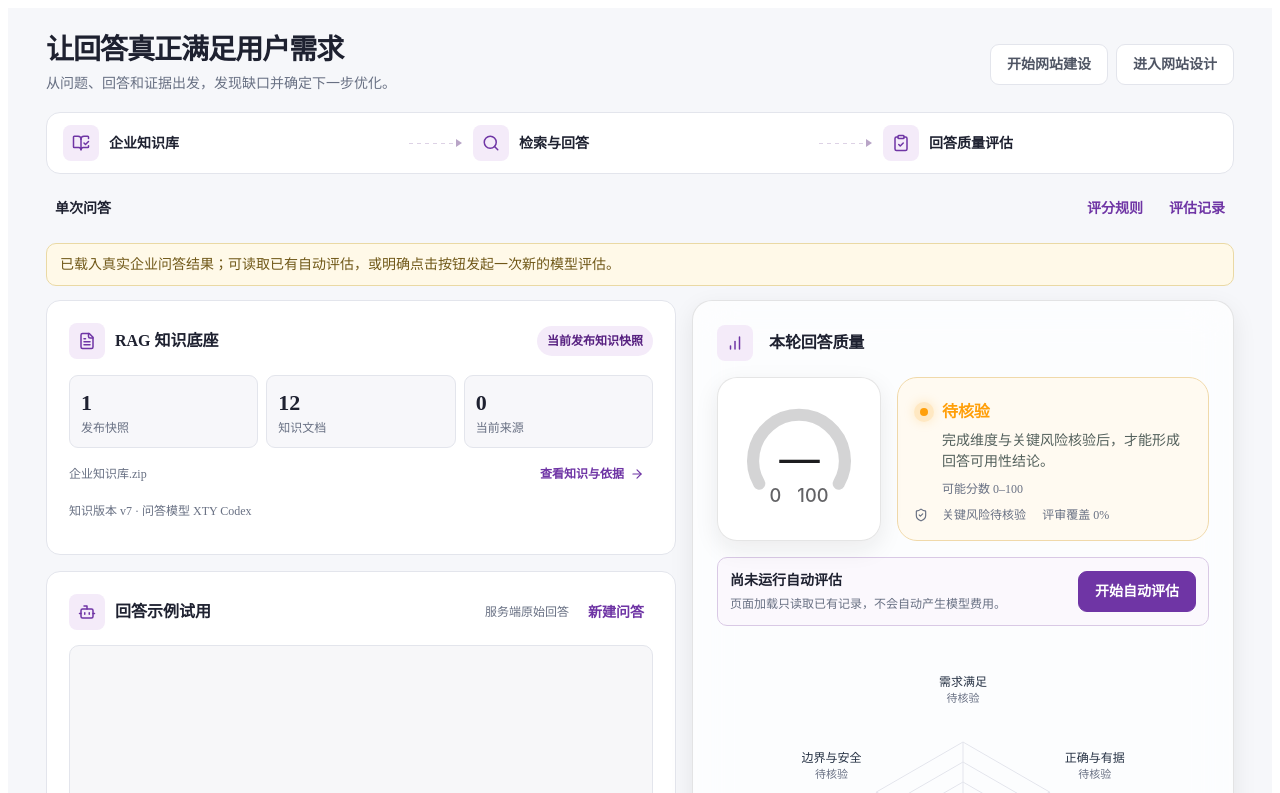
enterprise RAG evidence-based review UI › reuses the same client request id after an unknown POST outcome
Click the button with test id "rag-auto-evaluate" at (1137, 592), box [1078,572,1196,612]
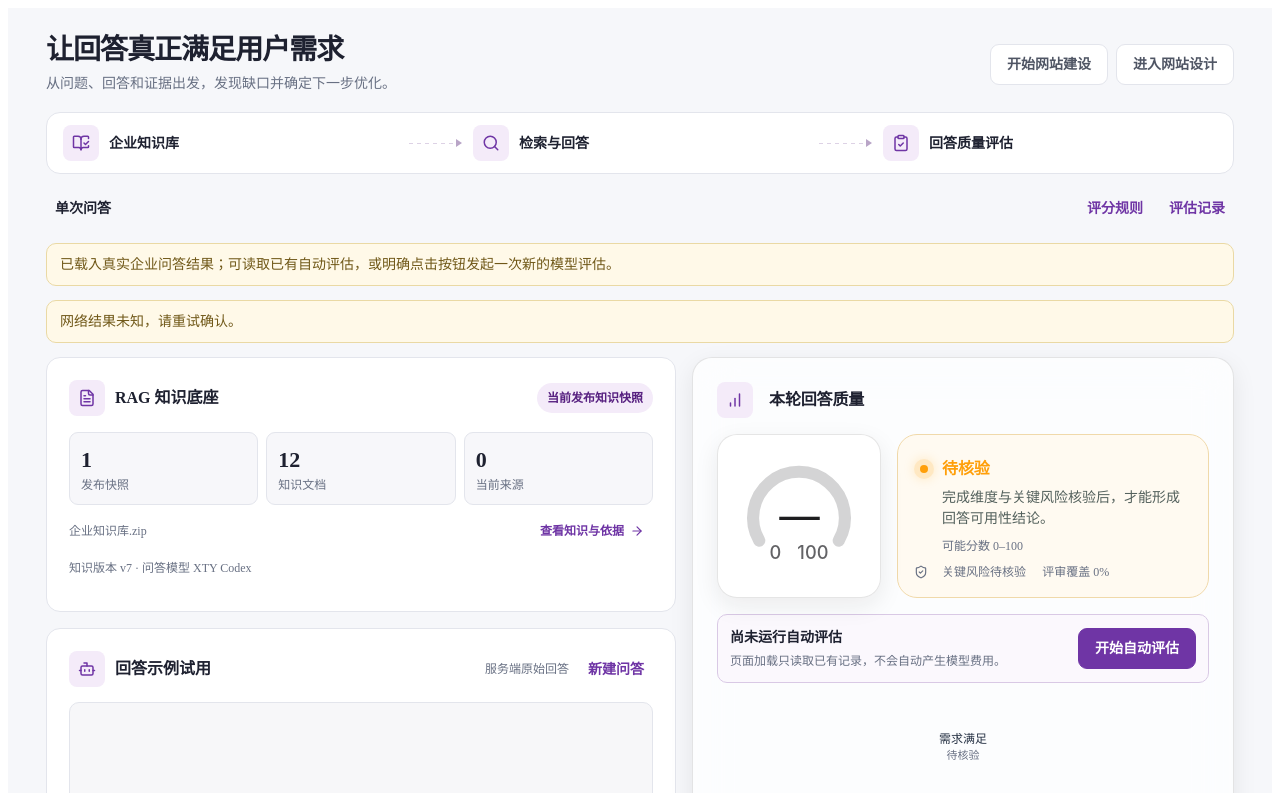
expect the text "网络结果未知，请重试确认。" is shown: met, box [46,300,1234,344]
Click the button with test id "rag-auto-evaluate" at (1137, 649), box [1078,628,1196,670]
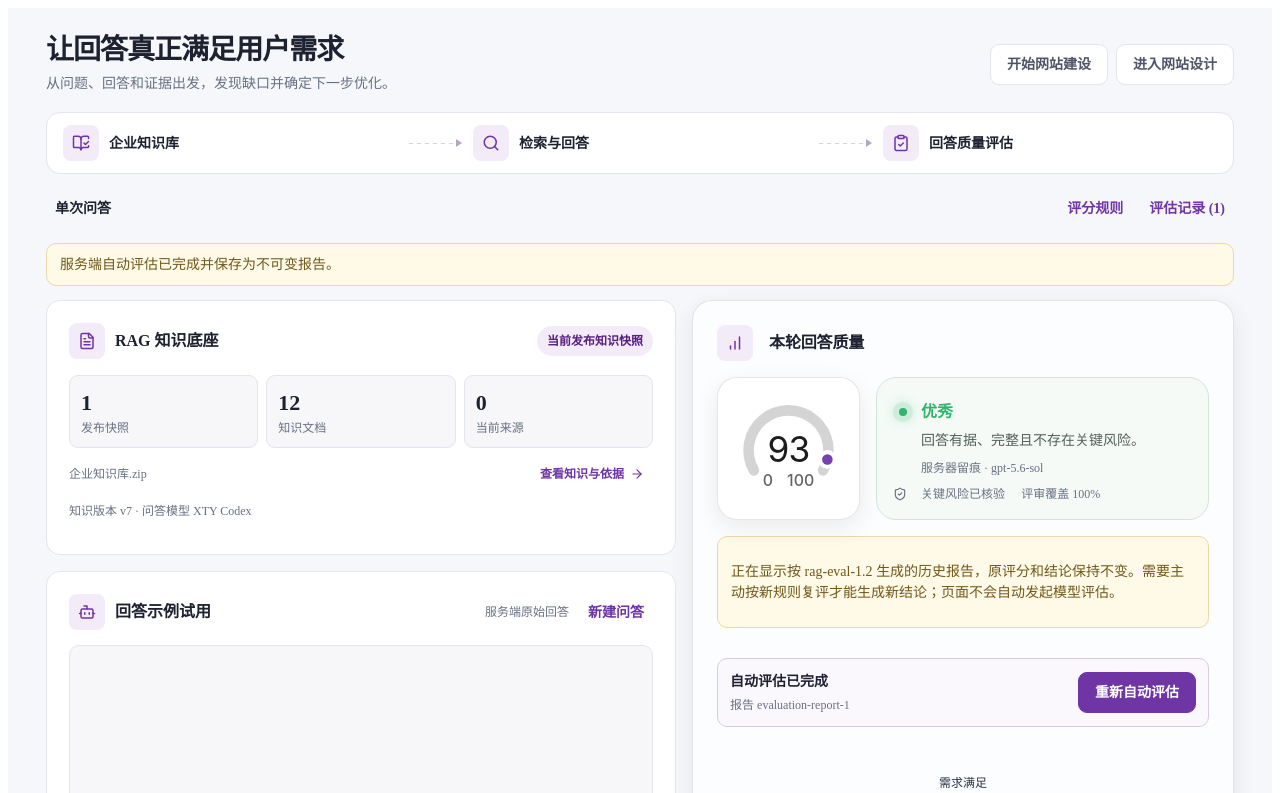
expect the element with test id "rag-auto-evaluation-status" shows "自动评估已完成": met, box [730,674,828,690]
